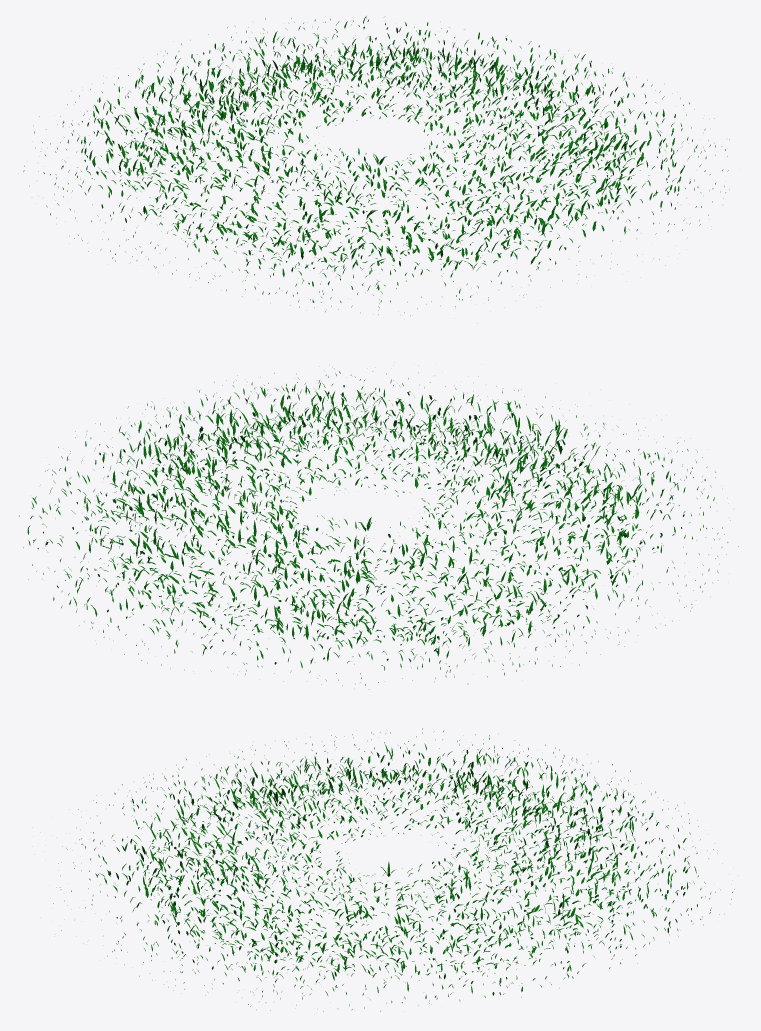
The model's file is 02_Grass20k_02.fbx.
The picture shows the model from 3 angles, top to bottom: view 1: azimuth 30°, elevation 25°; view 2: azimuth 150°, elevation 25°; view 3: azimuth 270°, elevation 25°; orthographic projection. The views are drawn at different scales.
Parts seen in each view (by area): view 1: Grass6k_geo, Grass12k_geo.001; view 2: Grass6k_geo, Grass12k_geo.001; view 3: Grass6k_geo, Grass12k_geo.001.
Boxes of the visible parts, x1=… form: Grass6k_geo: x1=23, y1=16, x2=729, y2=315; Grass12k_geo.001: x1=118, y1=47, x2=643, y2=273; Grass6k_geo: x1=19, y1=368, x2=738, y2=689; Grass12k_geo.001: x1=85, y1=408, x2=641, y2=646; Grass6k_geo: x1=53, y1=728, x2=734, y2=1011; Grass12k_geo.001: x1=136, y1=765, x2=638, y2=978.
Size of the model in its own units: 4778 by 375 by 5023.
1 material, 1 textured.
